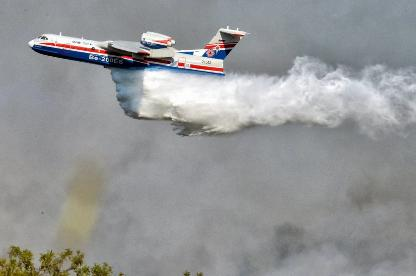B52: (28, 26, 250, 77)
